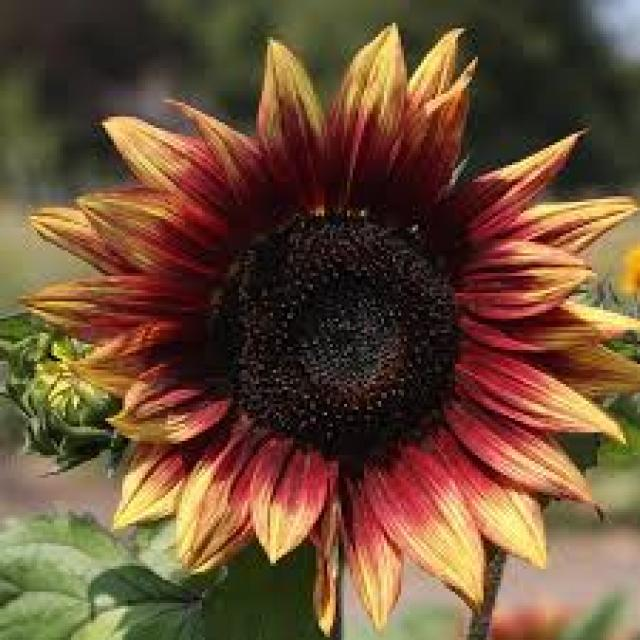sunflower: (14, 17, 640, 640)
